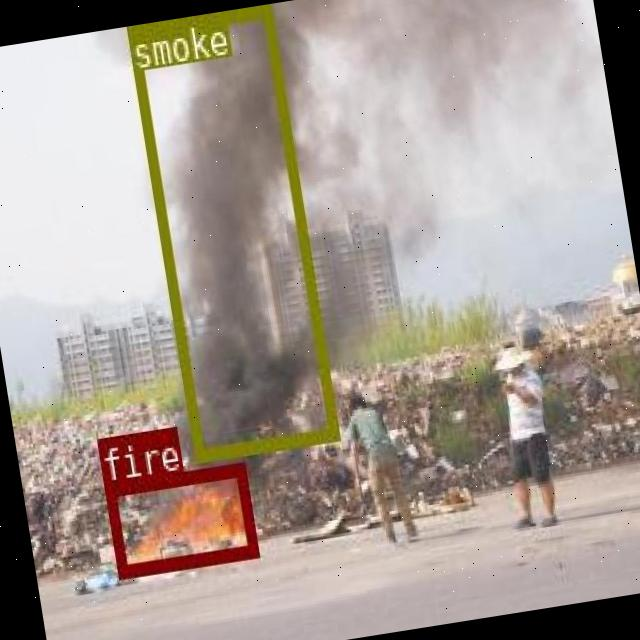fire: (101, 461, 256, 575)
smoke: (126, 4, 338, 461)
